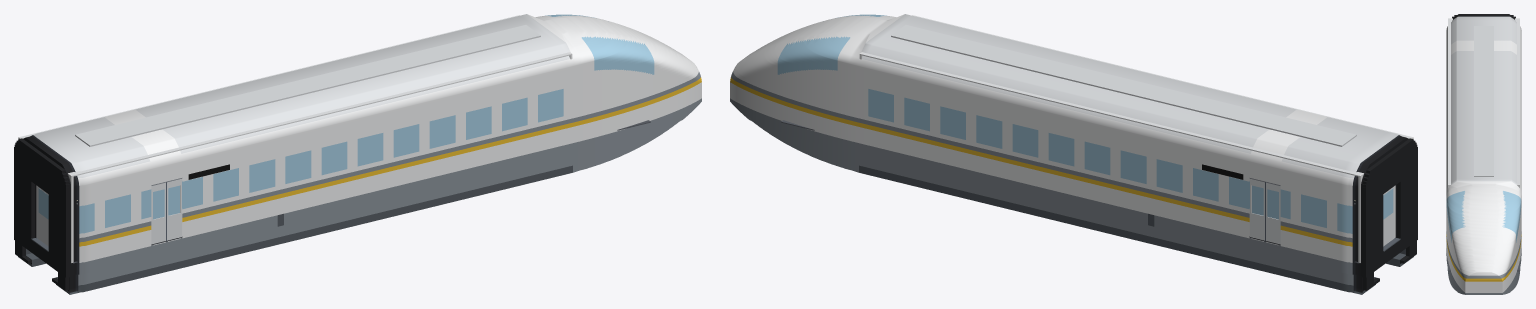
The model's file is tr09_front.obj.
3 renders of one model, left to right at view 1: azimuth 30°, elevation 25°; view 2: azimuth 150°, elevation 25°; view 3: azimuth 270°, elevation 25°, orthographic. The views are drawn at different scales.
Visible parts, largest first — view 1: SHELL, SHELL_roof, SHELL_diaphragm, SHELL_ceiling, EXTERNAL_DOOR_3_CG_DR1_TOGGLE_TL_-0.54_X, EXTERNAL_DOOR_4_CG_DR1_TOGGLE_TL_0.54_X, CONNECTING_DOOR_1_CG_CR_TOGGLE_TL_0.98_Z; view 2: SHELL, SHELL_roof, SHELL_diaphragm, SHELL_ceiling, EXTERNAL_DOOR_6_CG_DL1_TOGGLE_TL_-0.54_X, EXTERNAL_DOOR_7_CG_DL1_TOGGLE_TL_0.54_X, CONNECTING_DOOR_1_CG_CR_TOGGLE_TL_0.98_Z; view 3: SHELL, SHELL_roof, SHELL_ceiling.
Part boxes in pixels (x1,y1,x2,y2): SHELL: (18,14,701,294); SHELL_roof: (75,25,540,146); SHELL_diaphragm: (14,138,69,290); SHELL_ceiling: (20,15,570,176); EXTERNAL_DOOR_3_CG_DR1_TOGGLE_TL_-0.54_X: (151,182,166,244); EXTERNAL_DOOR_4_CG_DR1_TOGGLE_TL_0.54_X: (167,179,181,240); CONNECTING_DOOR_1_CG_CR_TOGGLE_TL_0.98_Z: (37,186,48,246); SHELL: (730,14,1413,294); SHELL_roof: (891,25,1356,146); SHELL_diaphragm: (1362,138,1417,290); SHELL_ceiling: (861,15,1411,176); EXTERNAL_DOOR_6_CG_DL1_TOGGLE_TL_-0.54_X: (1265,182,1280,244); EXTERNAL_DOOR_7_CG_DL1_TOGGLE_TL_0.54_X: (1250,179,1264,240); CONNECTING_DOOR_1_CG_CR_TOGGLE_TL_0.98_Z: (1383,186,1394,246); SHELL: (1446,14,1521,294); SHELL_roof: (1474,26,1493,176); SHELL_ceiling: (1448,19,1519,184).
Size of the model in its own units: 25.16 by 4.68 by 3.72.
Materials: 1 (1 with a texture image).
